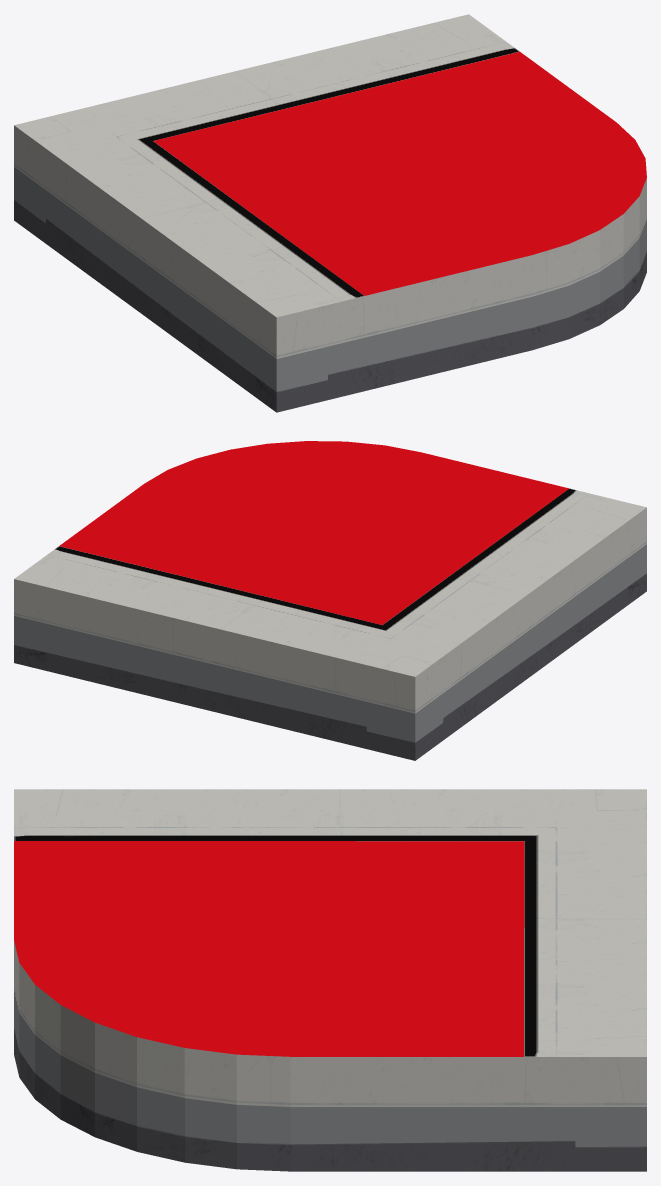
The model's file is G_Env_Arch_Floor_Metal_10_CornerRoundedOut.fbx.
The picture shows the model from 3 angles, top to bottom: view 1: azimuth 30°, elevation 25°; view 2: azimuth 150°, elevation 25°; view 3: azimuth 270°, elevation 25°; orthographic projection. The views are drawn at different scales.
Visible parts, largest first — view 1: G_Env_Arch_Floor_Metal_10_CornerRoundedOut; view 2: G_Env_Arch_Floor_Metal_10_CornerRoundedOut; view 3: G_Env_Arch_Floor_Metal_10_CornerRoundedOut.
Boxes of the visible parts, bbox=[...] form: G_Env_Arch_Floor_Metal_10_CornerRoundedOut: bbox=[14, 14, 646, 412]; G_Env_Arch_Floor_Metal_10_CornerRoundedOut: bbox=[14, 441, 646, 760]; G_Env_Arch_Floor_Metal_10_CornerRoundedOut: bbox=[14, 789, 646, 1171].
Size of the model in its own units: 500 by 100 by 500.
